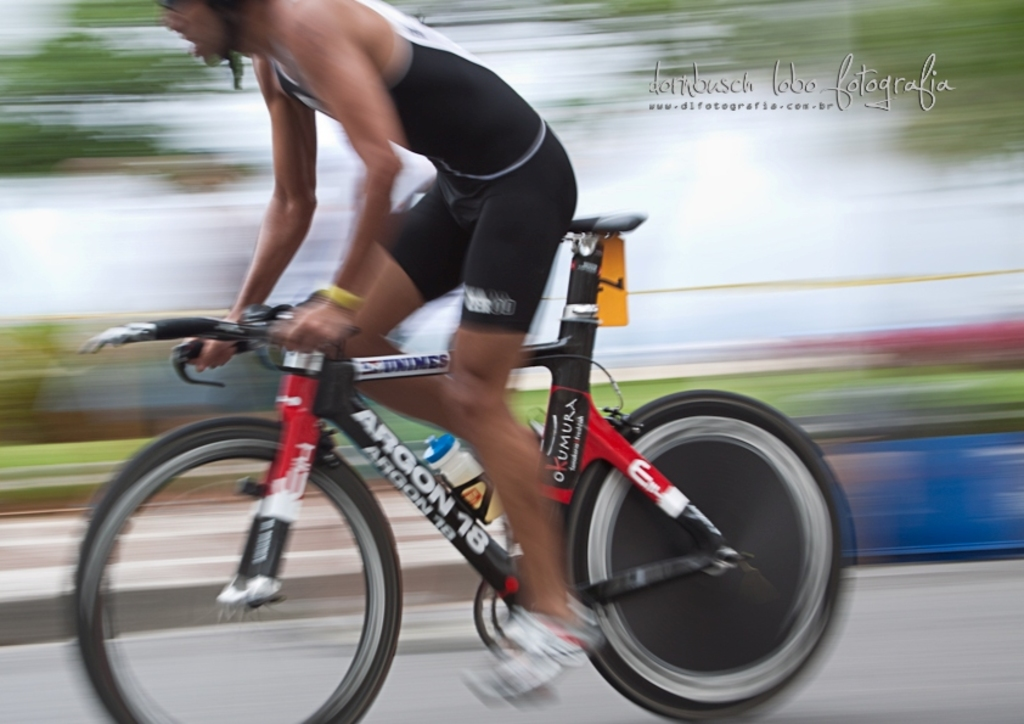Person: (160, 0, 602, 697)
